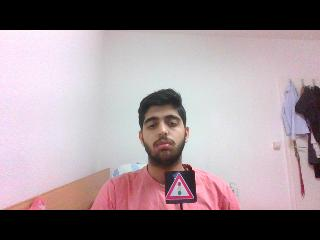traffic_light: (165, 171, 195, 203)
